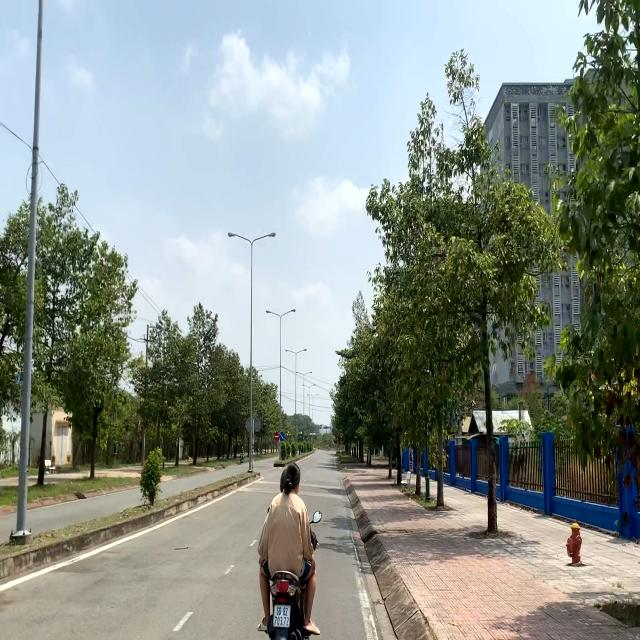P.102: (274, 432, 279, 441)
R.302a: (279, 432, 284, 441)
